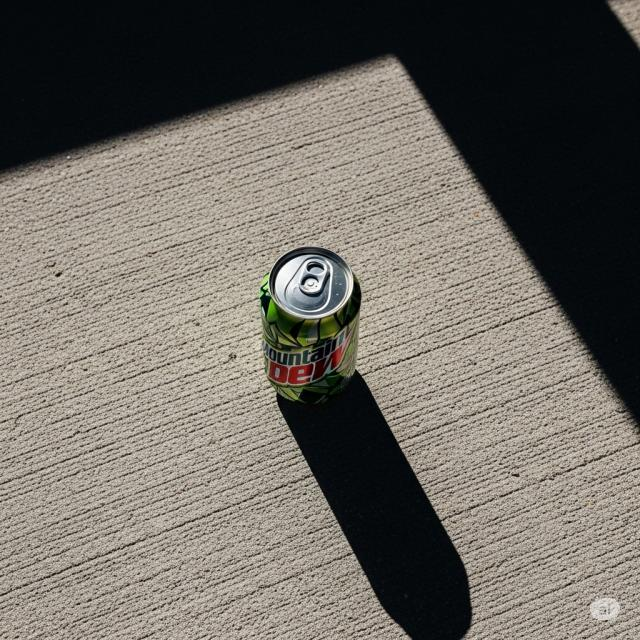aluminum: (258, 244, 361, 411)
